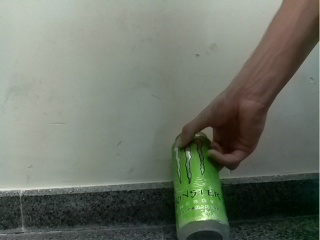botella plastico: (171, 131, 230, 240)
